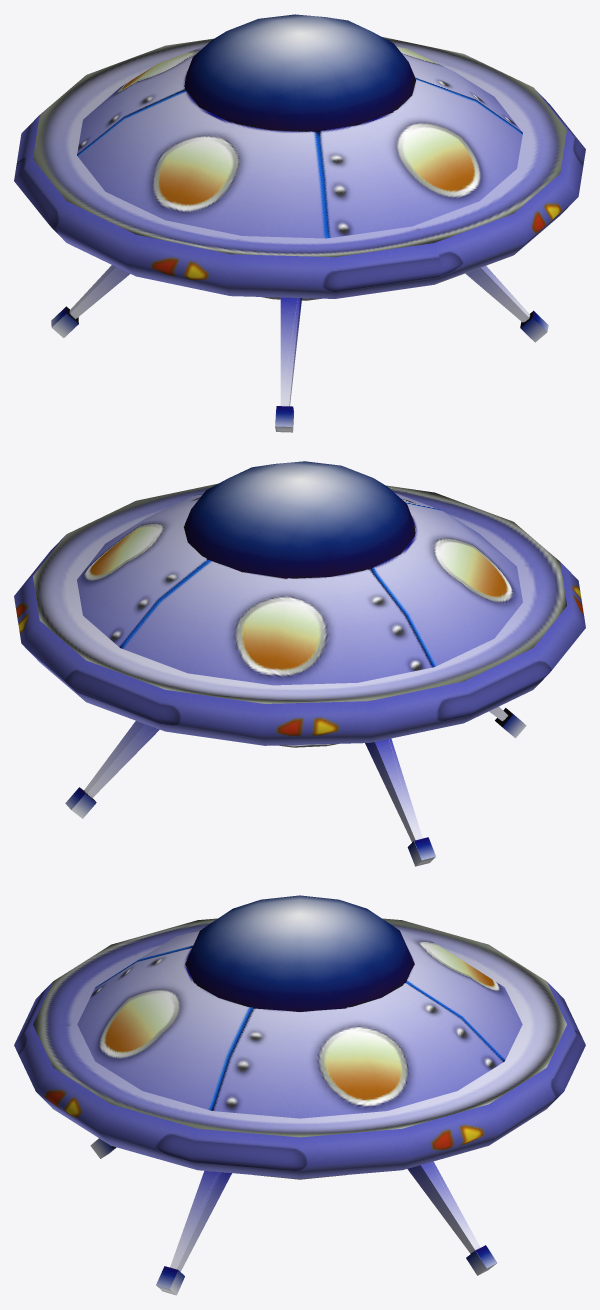
The model's file is ufo.obj.
3 renders of one model, top to bottom at view 1: azimuth 30°, elevation 25°; view 2: azimuth 150°, elevation 25°; view 3: azimuth 270°, elevation 25°, orthographic.
Parts seen in each view (by area): view 1: Cube; view 2: Cube; view 3: Cube.
Part boxes in pixels (box(x1,y1,x2,y2)): Cube: box(14, 14, 585, 432); Cube: box(14, 461, 585, 866); Cube: box(14, 895, 585, 1295).
Size of the model in its own units: 2.12 by 1.22 by 2.12.
1 material, 1 textured.
